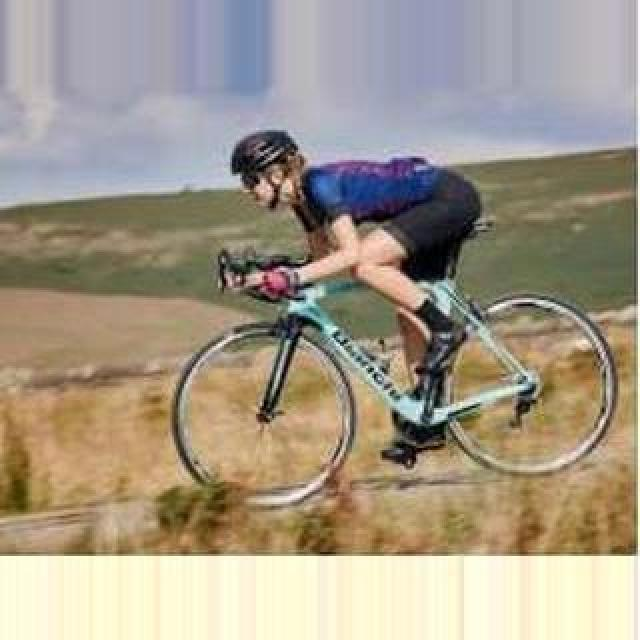MC-Bike: (218, 132, 498, 474)
Person: (176, 251, 614, 513)
